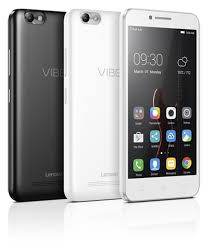lenovo: (119, 5, 204, 202)
